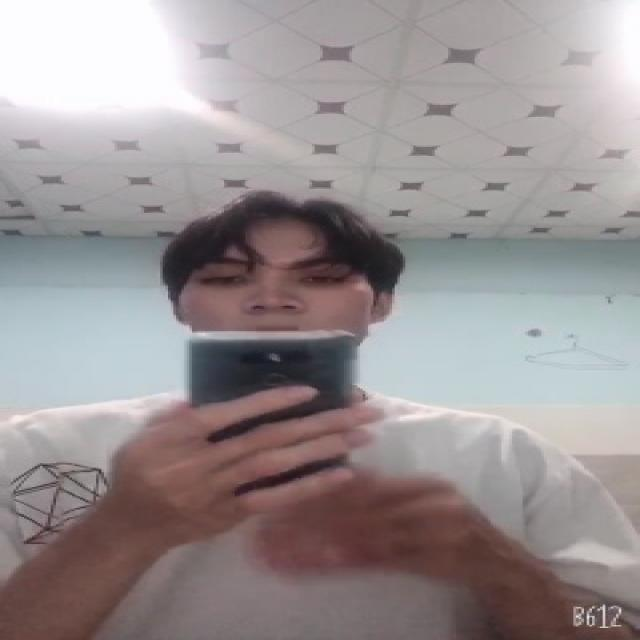Phone: (184, 331, 352, 483)
